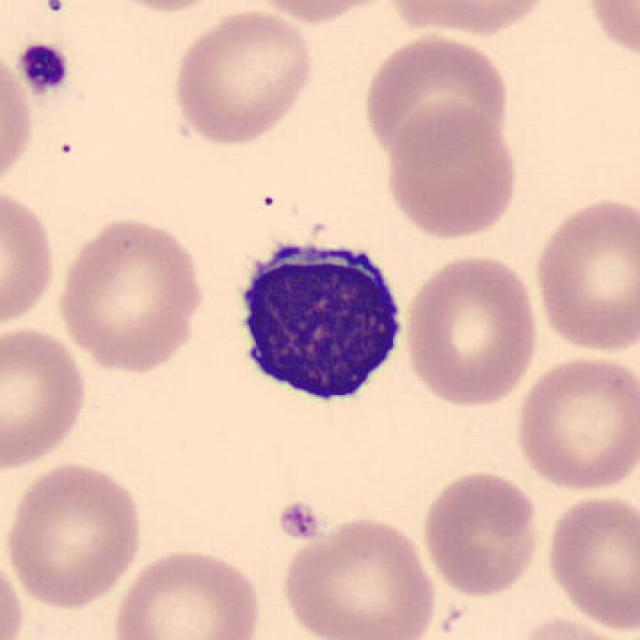Lymphocyte: (220, 224, 414, 420)
Platelets: (16, 41, 71, 95), (276, 499, 320, 541), (41, 0, 69, 16)
RBC: (53, 212, 210, 374), (400, 250, 542, 409), (2, 458, 146, 612), (167, 5, 317, 148), (359, 28, 516, 164), (277, 513, 441, 640), (382, 98, 523, 242), (510, 351, 638, 495), (530, 190, 638, 358), (418, 468, 544, 600), (108, 545, 265, 640), (0, 323, 91, 474), (542, 490, 638, 633), (0, 182, 59, 333), (382, 0, 558, 39), (0, 40, 37, 197), (243, 0, 400, 26), (582, 0, 638, 69), (508, 613, 631, 640), (0, 548, 28, 639), (94, 0, 233, 14)
